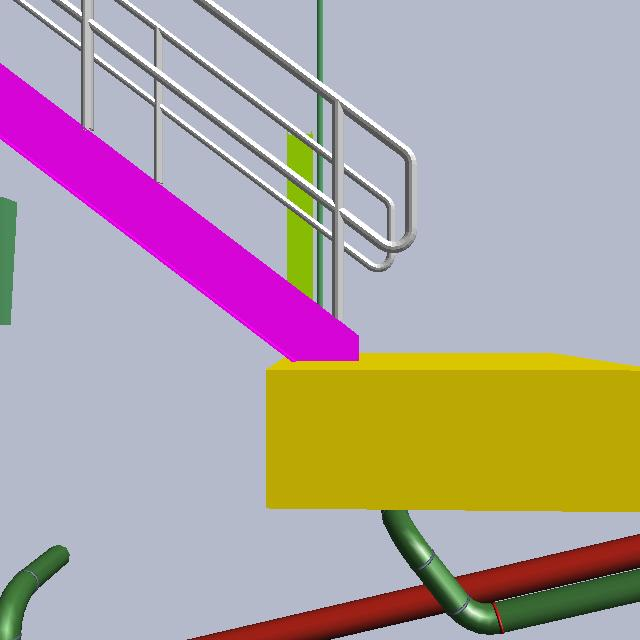Poste: (310, 1, 327, 326)
Soporte: (274, 115, 317, 335)
